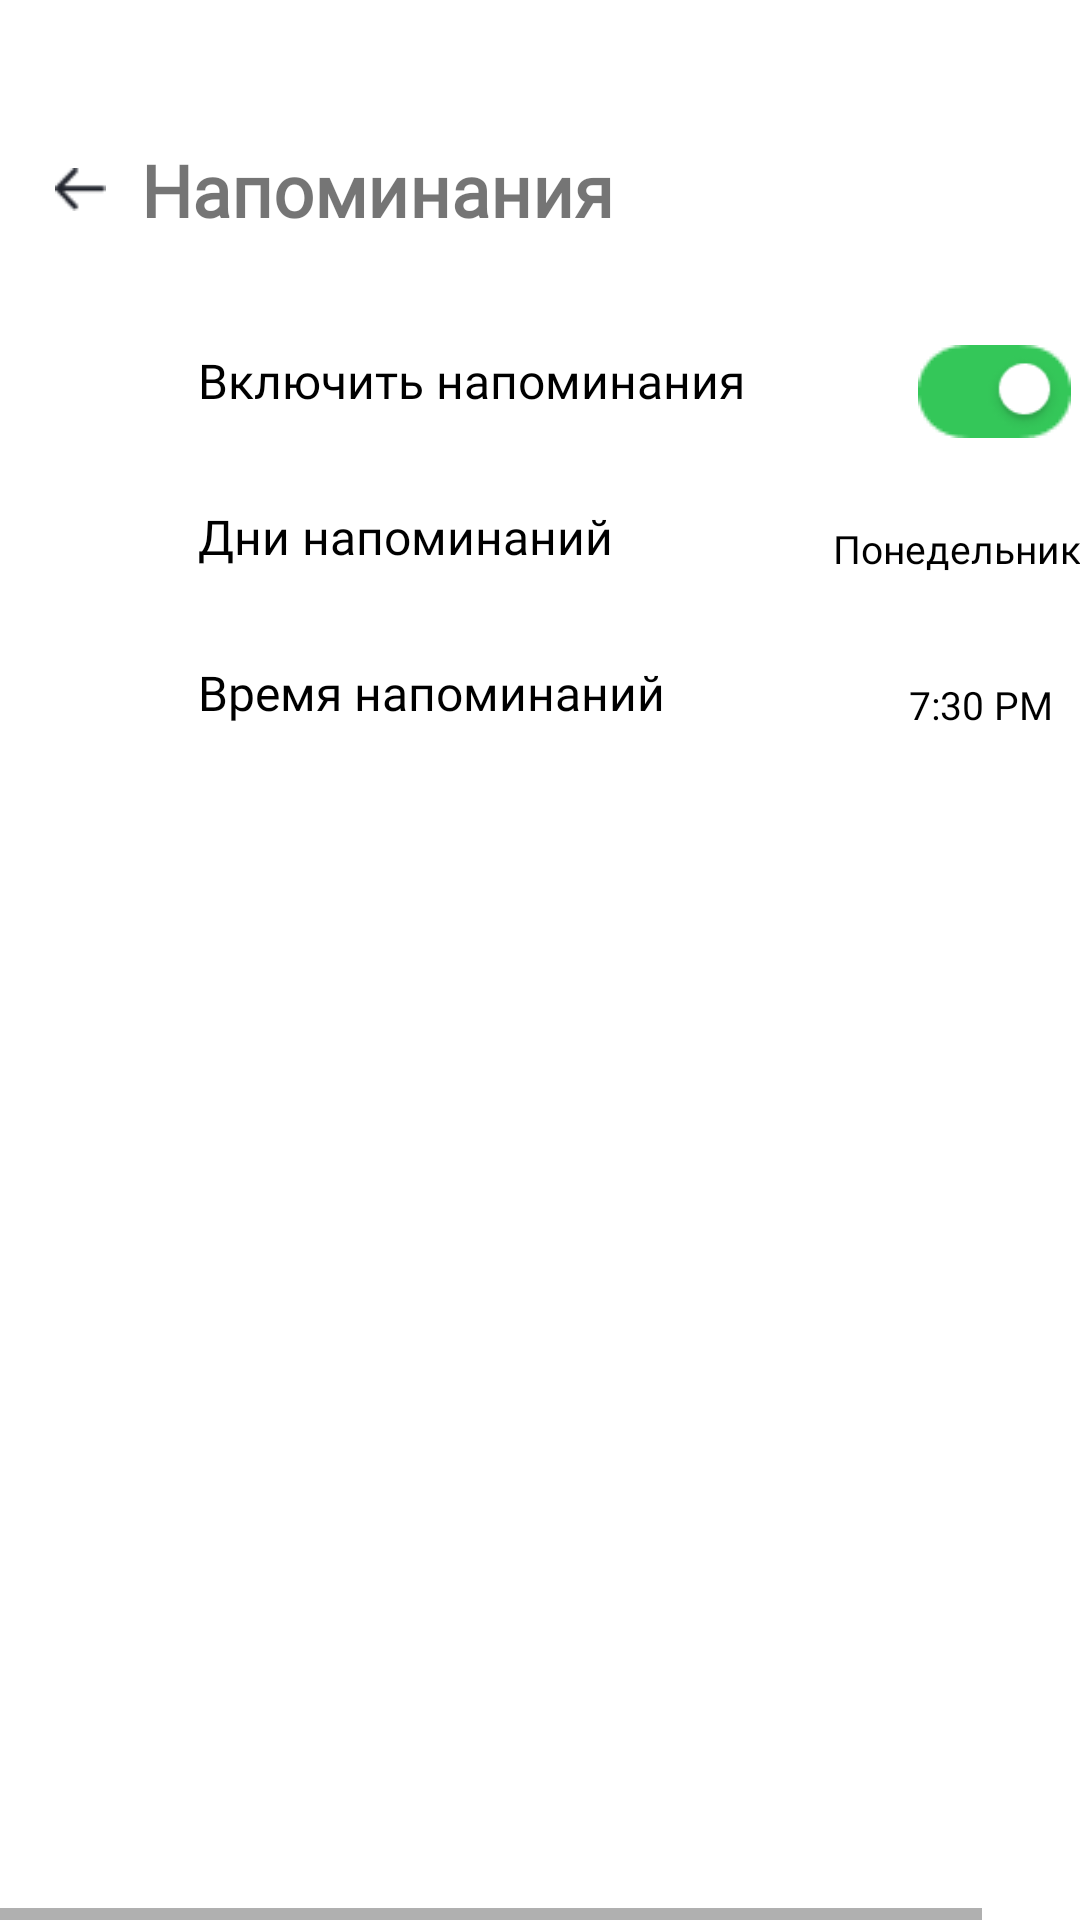

Point at icon controls on the screen. Image size 1080x1920, points as (x,y).
knob: (1024,394)
